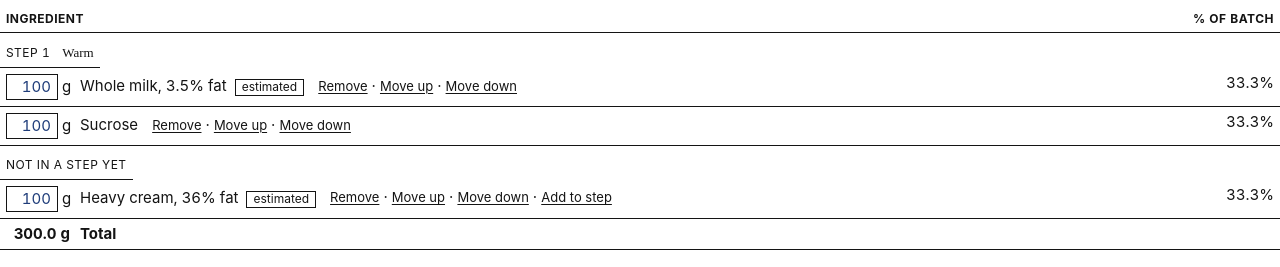
Test case: IngredientTable, creating: the acts line (STRUCT-01 to STRUCT-03, D-15 to D-17) › choosing a step places the row as that step's last row and closes the chooser
This screenshot has width=1280, height=267.
Click the button "Add to step" at (577, 198), box [541,186,612,210]
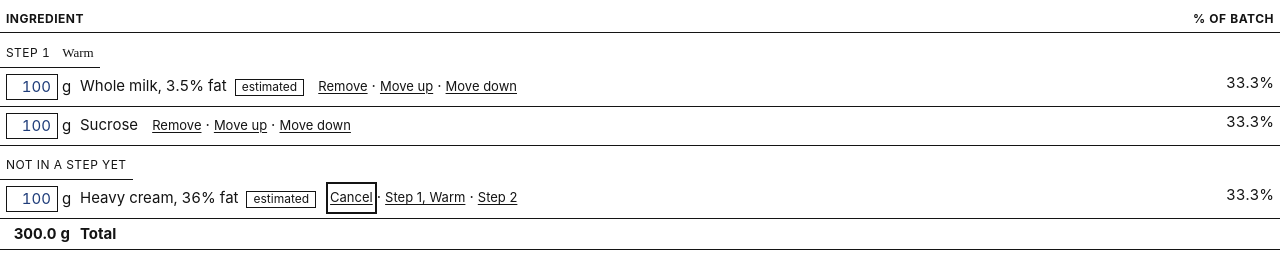
Click the button "Step 1, Warm" at (425, 198), box [385,186,465,210]
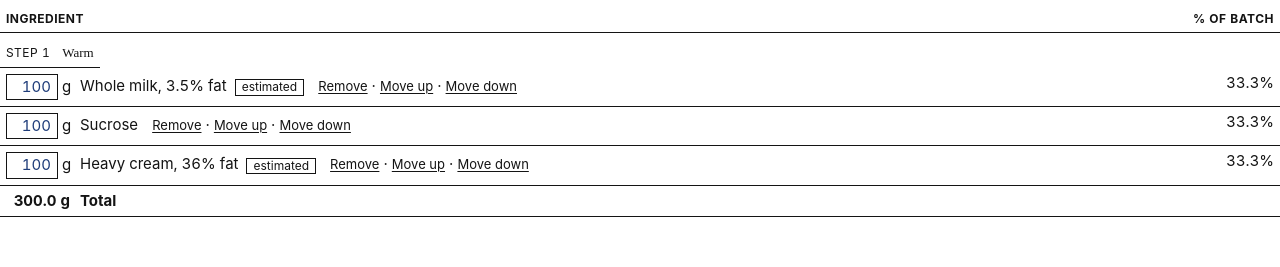
Now the element with class "mk-row-acts--choosing" is gone
